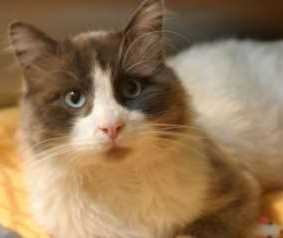Cat: (10, 23, 247, 237)
